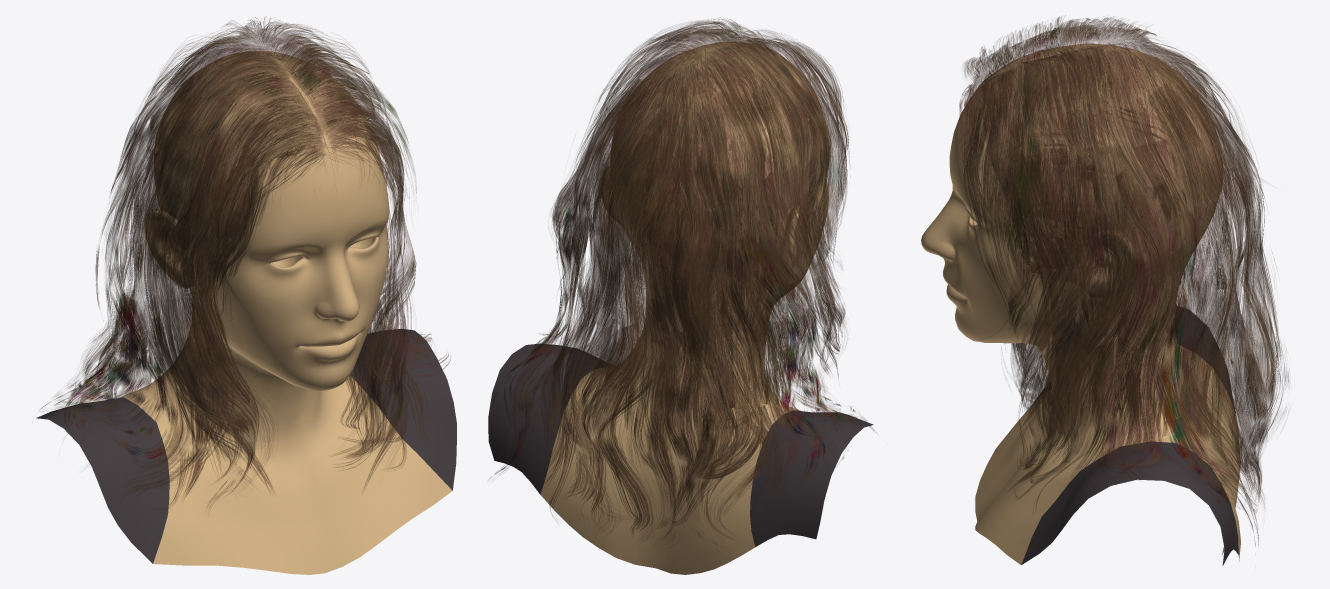
The model's file is HairSilmulation.gltf.
3 renders of one model, left to right at view 1: azimuth 30°, elevation 25°; view 2: azimuth 150°, elevation 25°; view 3: azimuth 270°, elevation 25°, orthographic. The views are drawn at different scales.
Visible parts, largest first — view 1: Head, Shoulder_length_hair; view 2: Shoulder_length_hair, Head; view 3: Shoulder_length_hair, Head.
Boxes of the visible parts, x1,y1,x2,y2 form: Head: (36,51,456,574); Shoulder_length_hair: (40,16,450,512); Shoulder_length_hair: (489,18,876,543); Head: (488,42,873,574); Shoulder_length_hair: (959,15,1289,546); Head: (921,43,1240,565).
Size of the model in its own units: 31.52 by 41.03 by 27.85.
4 materials, 1 textured.
